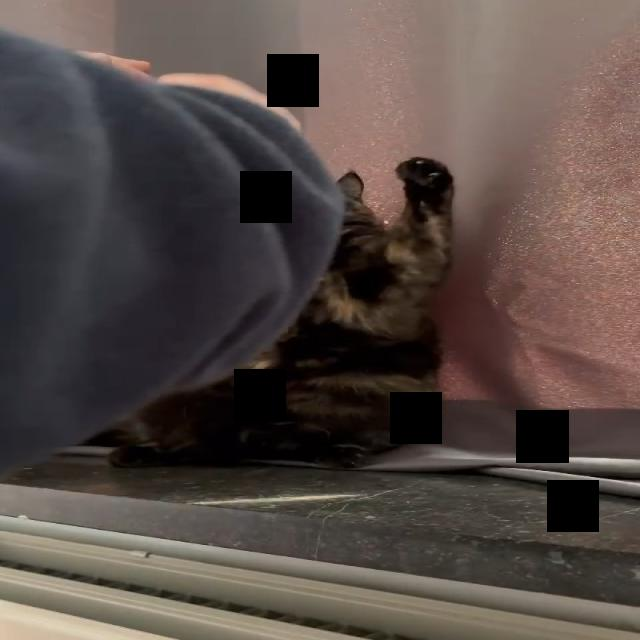authorized: (88, 156, 456, 470)
